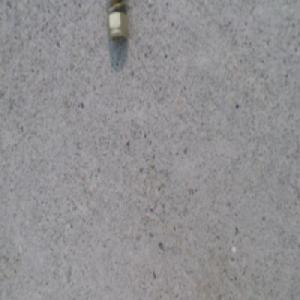BoltNutSet: (107, 0, 127, 46)
